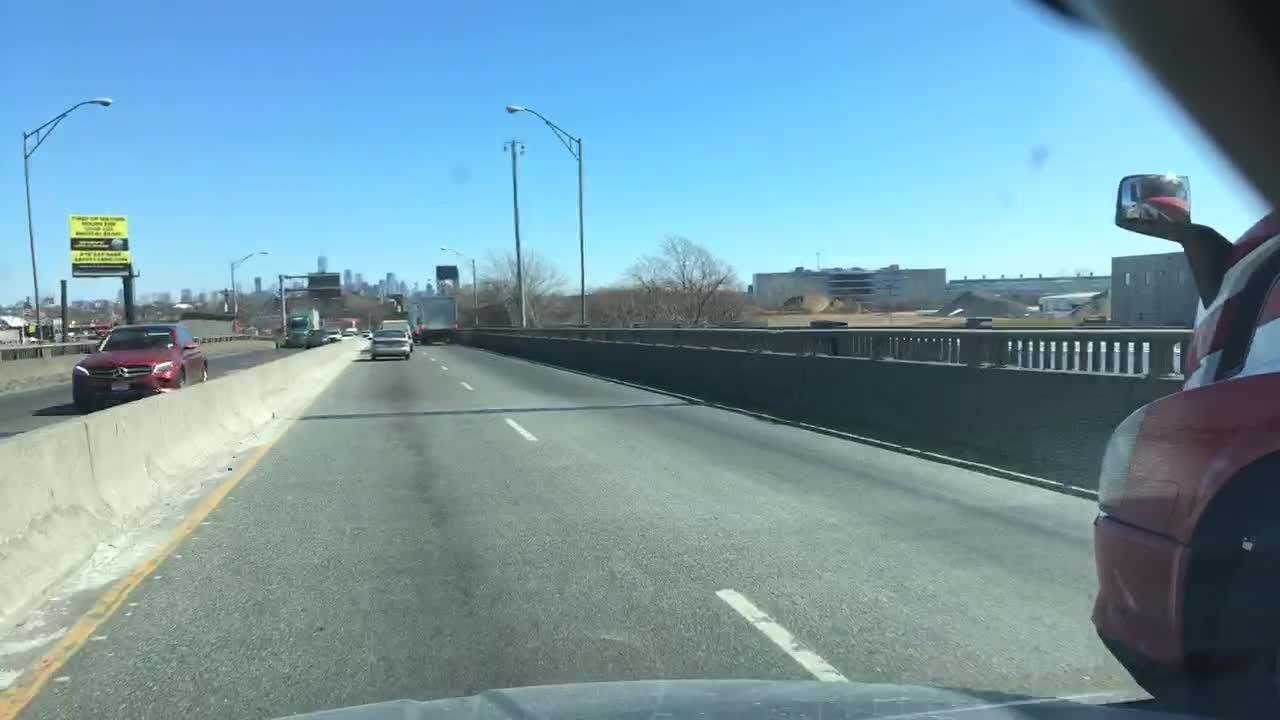Mercedes: (113, 365, 128, 382)
